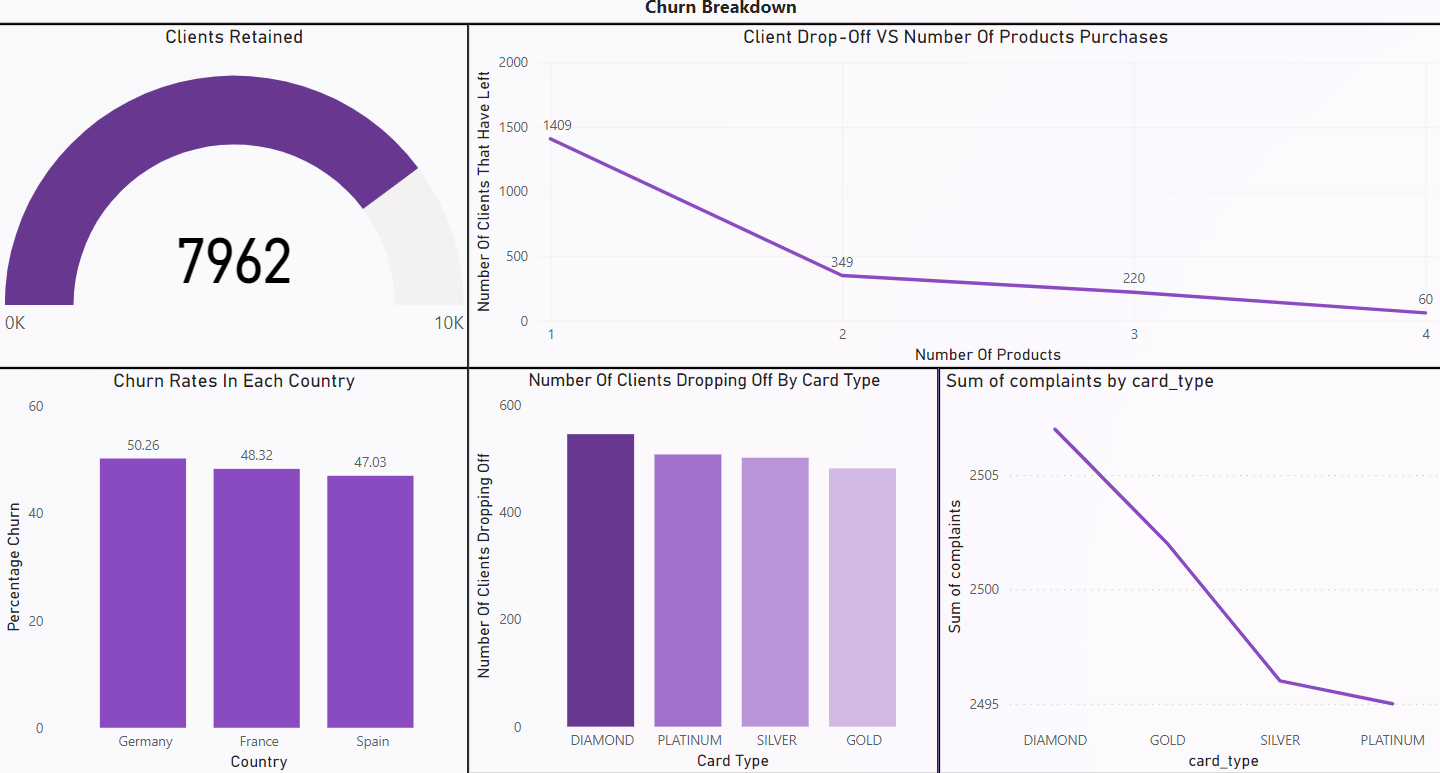

This screenshot's page, from the dashboard's own definition file:
{"tool":"powerbi","page":{"name":"Churn Breakdown","canvas":[1280,720],"ordinal":1},"visuals":[{"type":"textbox","box":[0,0,1280,54],"z":0},{"type":"lineClusteredColumnComboChart","title":"Number Of Clients Dropping Off By Card Type","fields":{"Category":["store_sales card_vs_lost_customers.card_type"],"Y2":["Sum(store_sales complaints_per_card_type.complaints)"],"Y":["Sum(store_sales card_vs_lost_customers.clients_leaving)"]},"box":[416.7,359,862.8,360],"z":0,"group":"g1"},{"type":"group","id":"g1","title":"Group 1","box":[0,54,1280,666],"z":1000},{"type":"lineChart","title":"Client Drop-Off VS Number Of Products Purchases","fields":{"Category":["store_sales no_of_products_vs_drop_off.no_of_products"],"Y":["Sum(store_sales no_of_products_vs_drop_off.Number Of People That Have Left)"]},"box":[417,54,863,305],"z":1000,"group":"g1"},{"type":"columnChart","title":"Churn Rates In Each Country","fields":{"Y":["Sum(store_sales churn_rate_per_country.churn_rate)"],"Category":["store_sales churn_rate_per_country.Geography"]},"box":[0,359,417,361],"z":2000,"group":"g1"},{"type":"gauge","title":"Clients Retained","fields":{"MaxValue":["Sum(store_sales churn.total_customers)"],"Y":["Sum(store_sales churn.still_a_customer)"]},"box":[0,54,417,305],"z":3000,"group":"g1"}]}

Visuals, with their boxes on the page's 1280x720 design canvas (x1, y1, x2, y2). These are canvas units, not pixel positions in the 1440x773 screenshot, which may show the page scaled, cropped or inside an application window:
textbox: [x1=0, y1=0, x2=1280, y2=54]
"Number Of Clients Dropping Off By Card Type" lineClusteredColumnComboChart: [x1=417, y1=359, x2=1280, y2=719]
"Group 1" group: [x1=0, y1=54, x2=1280, y2=720]
"Client Drop-Off VS Number Of Products Purchases" lineChart: [x1=417, y1=54, x2=1280, y2=359]
"Churn Rates In Each Country" columnChart: [x1=0, y1=359, x2=417, y2=720]
"Clients Retained" gauge: [x1=0, y1=54, x2=417, y2=359]
